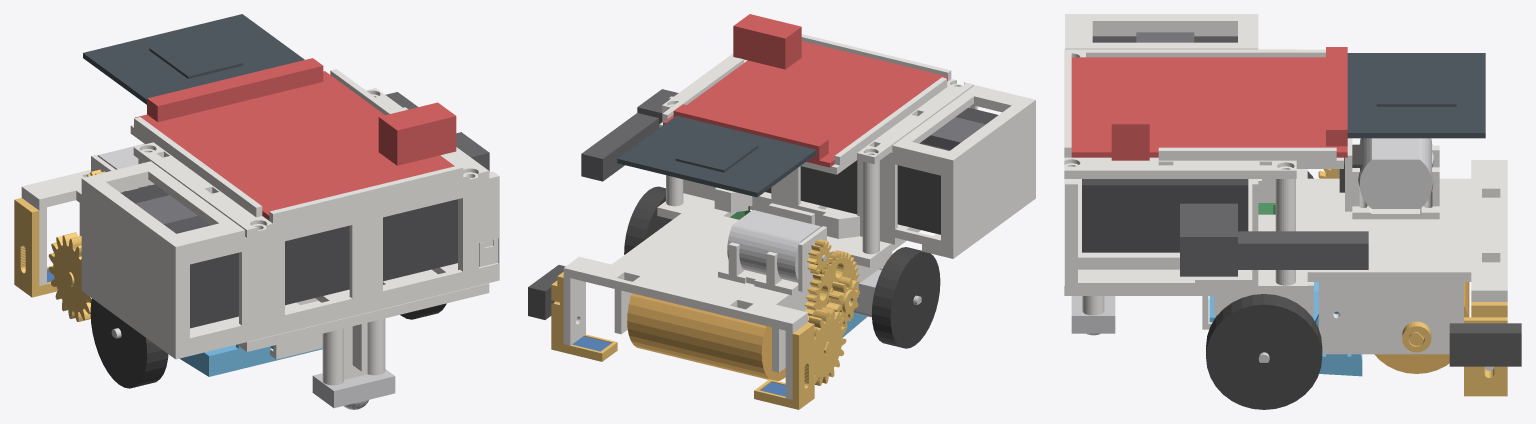
The model's file is dusty-revA6.glb.
3 views of the same model, side by side, from view 1: azimuth 30°, elevation 25°; view 2: azimuth 150°, elevation 25°; view 3: azimuth 270°, elevation 25° (orthographic). The views are drawn at different scales.
Visible parts, largest first — view 1: chassis__sleeve, brain__motobit, power__power_bank, chassis__deck, brain__microbit, chassis__base, drive__wheels, sensors__carrier_R, sweeper__roller_gear, drive__ball_caster, tray__tray, power__foam_shims (+3 smaller); view 2: chassis__sleeve, brain__motobit, chassis__base, brain__microbit, sweeper__pipe-cleaner_bristles, drive__wheels, chassis__deck, power__power_bank, sweeper__130_brush_motor, power__USB_adapter_and_cable, chassis__cradle, sweeper__compound (+10 smaller); view 3: chassis__base, brain__motobit, chassis__sleeve, brain__microbit, drive__wheels, chassis__deck, power__power_bank, power__USB_adapter_and_cable, sweeper__130_brush_motor, sensors__whisker_switch, chassis__cradle, sensors__carrier_L (+8 smaller).
Part boxes in pixels (x1,y1,x2,y2): chassis__sleeve: [81, 107, 499, 359]; brain__motobit: [135, 58, 456, 220]; power__power_bank: [120, 184, 457, 328]; chassis__deck: [130, 69, 489, 237]; brain__microbit: [83, 14, 304, 104]; chassis__base: [21, 169, 489, 385]; drive__wheels: [90, 298, 446, 388]; sensors__carrier_R: [14, 198, 57, 297]; sweeper__roller_gear: [48, 232, 91, 321]; drive__ball_caster: [312, 369, 395, 409]; tray__tray: [180, 344, 322, 376]; power__foam_shims: [135, 195, 209, 232]; chassis__sleeve: [669, 85, 1035, 258]; brain__motobit: [663, 14, 947, 167]; chassis__base: [563, 192, 920, 399]; brain__microbit: [617, 115, 816, 197]; sweeper__pipe-cleaner_bristles: [627, 293, 785, 380]; drive__wheels: [624, 186, 940, 348]; chassis__deck: [659, 34, 973, 174]; power__power_bank: [765, 107, 998, 234]; sweeper__130_brush_motor: [727, 210, 826, 282]; power__USB_adapter_and_cable: [581, 89, 678, 181]; chassis__cradle: [718, 203, 826, 295]; sweeper__compound: [804, 250, 859, 327]; chassis__base: [1064, 160, 1507, 370]; brain__motobit: [1071, 47, 1347, 160]; chassis__sleeve: [1065, 14, 1275, 291]; brain__microbit: [1347, 53, 1485, 138]; drive__wheels: [1206, 171, 1322, 409]; chassis__deck: [1064, 49, 1343, 178]; power__power_bank: [1082, 36, 1248, 252]; power__USB_adapter_and_cable: [1180, 203, 1368, 276]; sweeper__130_brush_motor: [1359, 138, 1432, 208]; sensors__whisker_switch: [1449, 323, 1521, 366]; chassis__cradle: [1345, 138, 1439, 219]; sensors__carrier_L: [1464, 302, 1507, 396].
Bounding box in the file's own units: 0.1206 × 0.0811 × 0.1259.
